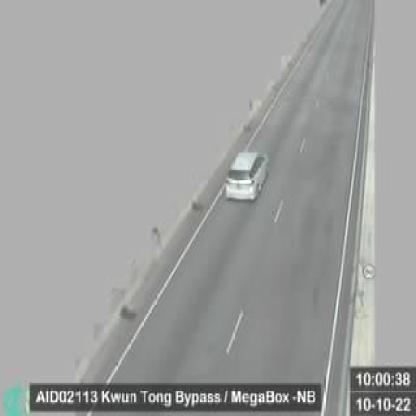Car: (225, 149, 271, 203)
